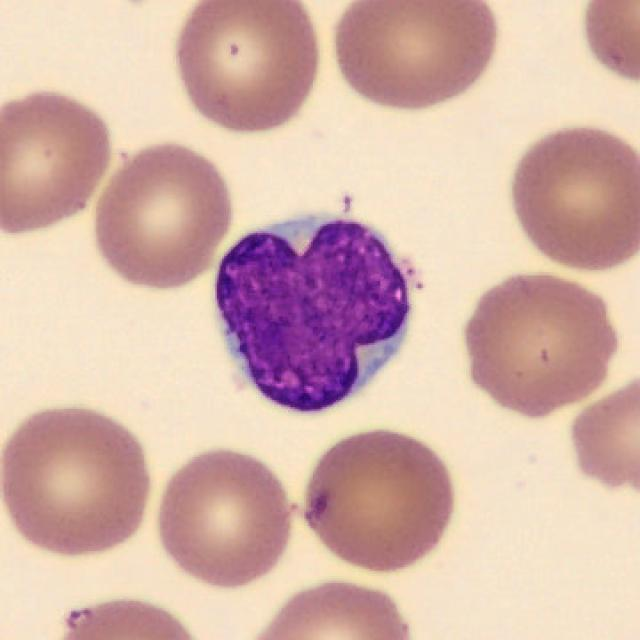Linfocito: (215, 217, 420, 414)
